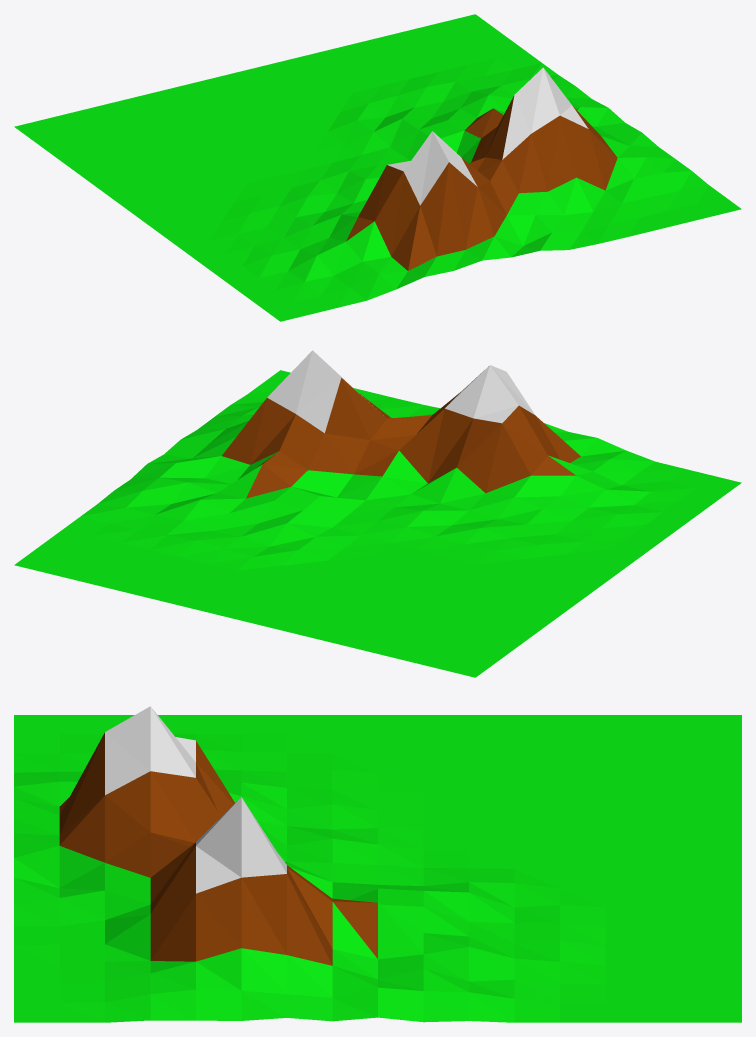
File: MountainsEnvironmentModel.fbx
3 views of the same model, one above another, from view 1: azimuth 30°, elevation 25°; view 2: azimuth 150°, elevation 25°; view 3: azimuth 270°, elevation 25° (orthographic). The views are drawn at different scales.
Parts seen in each view (by area): view 1: Plane; view 2: Plane; view 3: Plane.
Part boxes in pixels (x1=…): Plane: x1=14, y1=14, x2=741, y2=321; Plane: x1=14, y1=350, x2=741, y2=677; Plane: x1=14, y1=706, x2=741, y2=1022.
Size of the model in its own units: 60 by 13.55 by 60.
